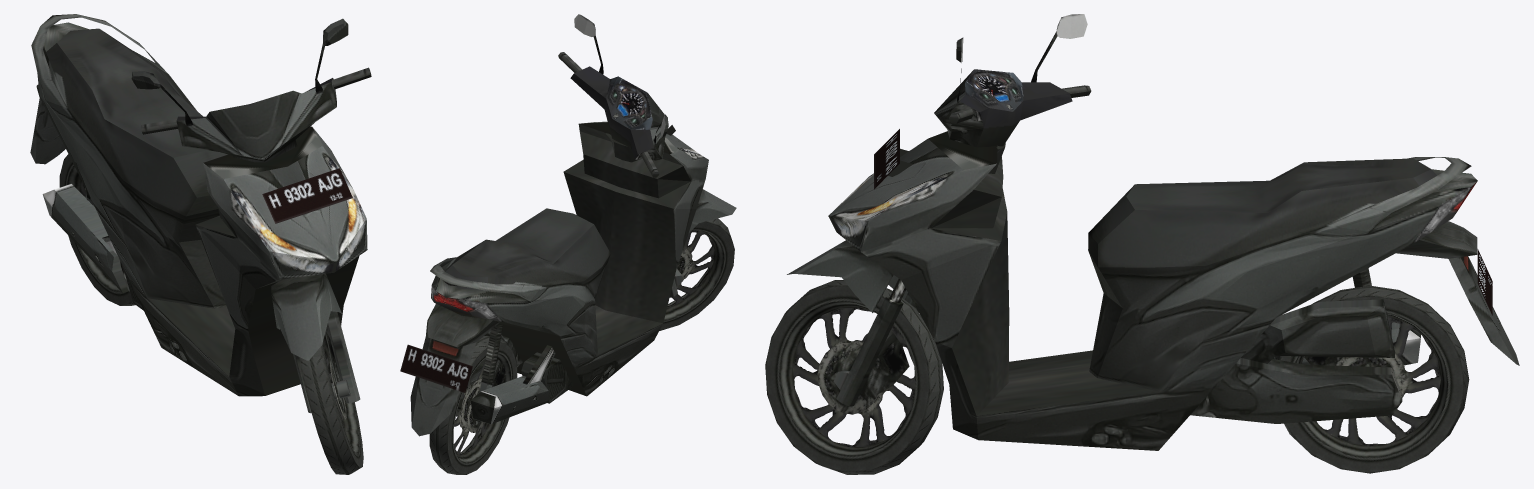
File: vario_psx_style_-_han66st.glb
3 views of the same model, side by side, from view 1: azimuth 30°, elevation 25°; view 2: azimuth 150°, elevation 25°; view 3: azimuth 270°, elevation 25° (orthographic). The views are drawn at different scales.
Parts seen in each view (by area): view 1: body.vario, stang_vario, wheel.vario, wheel.vario.001; view 2: body.vario, stang_vario, wheel.vario.001, wheel.vario; view 3: body.vario, wheel.vario, wheel.vario.001, stang_vario.
Part boxes in pixels (<box>): body.vario: <box>30,14,367,396</box>; stang_vario: <box>131,18,371,413</box>; wheel.vario: <box>298,327,363,474</box>; wheel.vario.001: <box>59,154,135,305</box>; body.vario: <box>400,121,708,436</box>; stang_vario: <box>558,14,736,297</box>; wheel.vario.001: <box>429,336,517,474</box>; wheel.vario: <box>659,218,734,330</box>; body.vario: <box>828,129,1519,450</box>; wheel.vario: <box>765,280,943,474</box>; wheel.vario.001: <box>1274,285,1469,473</box>; stang_vario: <box>787,14,1091,406</box>.
Bounding box in the file's own units: 0.6743 × 1.4 × 2.09.
1 material, 1 textured.
